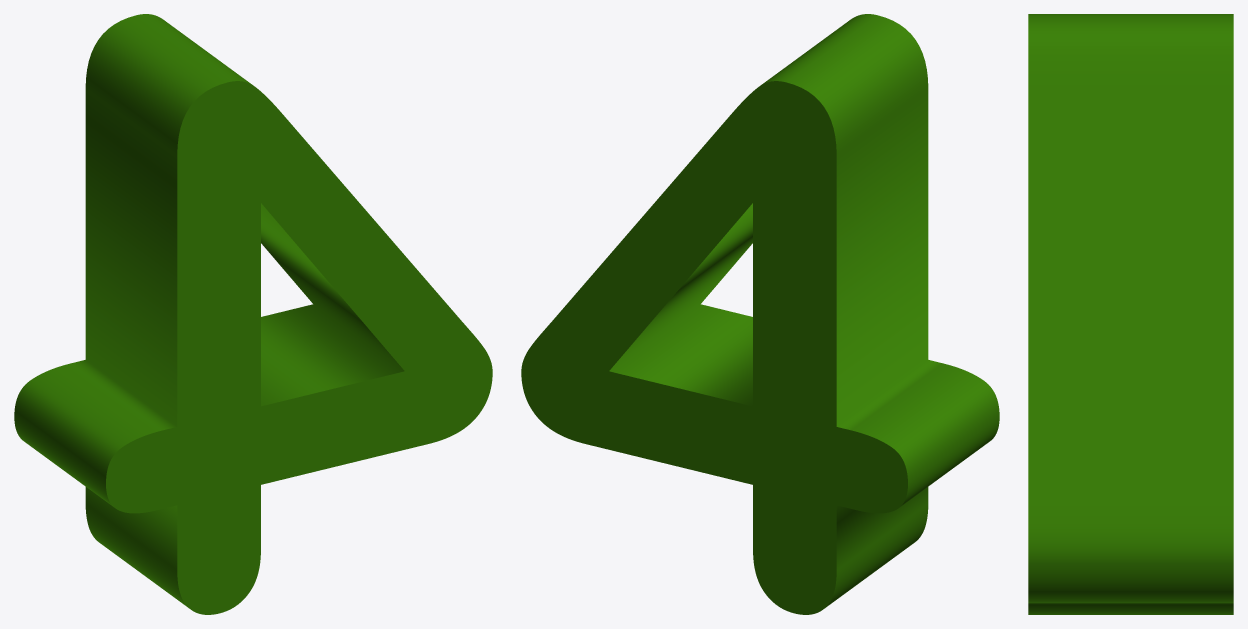
The picture shows the model from 3 angles, left to right: view 1: azimuth 30°, elevation 25°; view 2: azimuth 150°, elevation 25°; view 3: azimuth 270°, elevation 25°; orthographic projection. The views are drawn at different scales.
Parts seen in each view (by area): view 1: テキスト; view 2: テキスト; view 3: テキスト.
Part boxes in pixels (left/top/right/bottom): テキスト: left=14, top=14, right=492, bottom=614; テキスト: left=521, top=14, right=999, bottom=614; テキスト: left=1028, top=14, right=1233, bottom=614.
Size of the model in its own units: 0.4873 by 0.6371 by 0.2.
